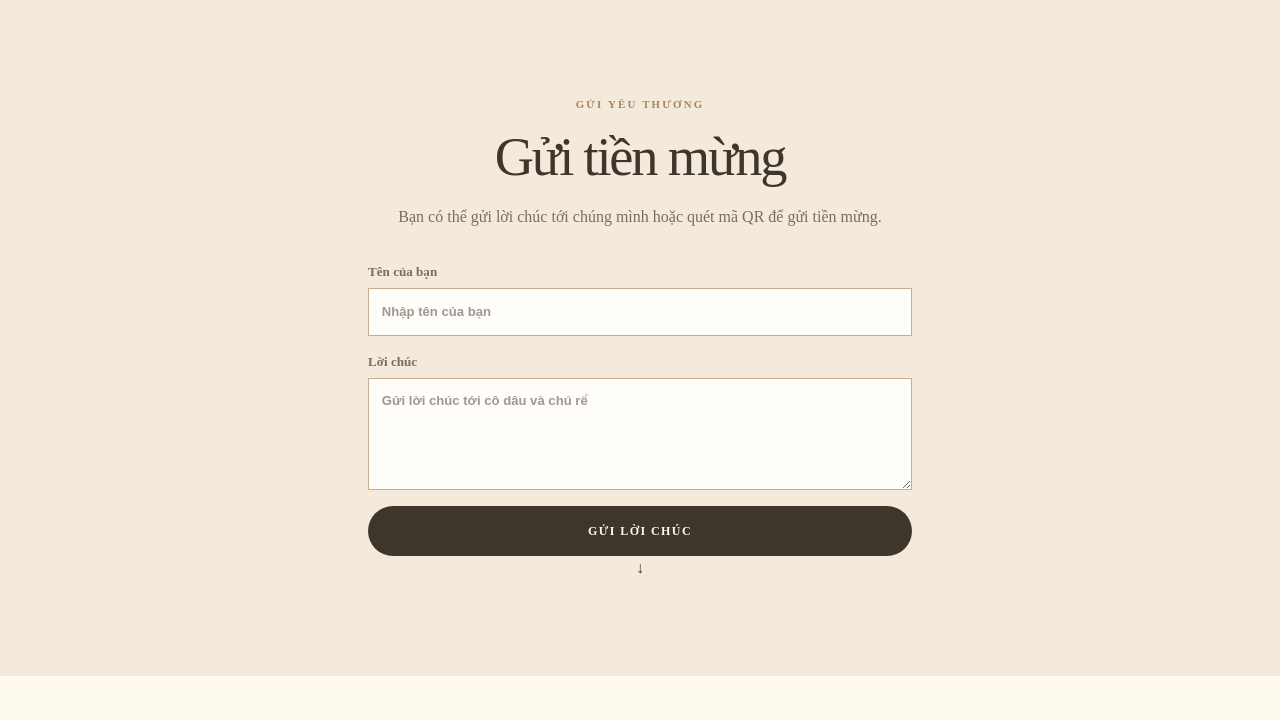
Test: GiftSection › submits the invitation guest wish and clears the form on success
In the field labelled "Tên của bạn": {"x": 640, "y": 312} [368,288,912,336], type "Minh"
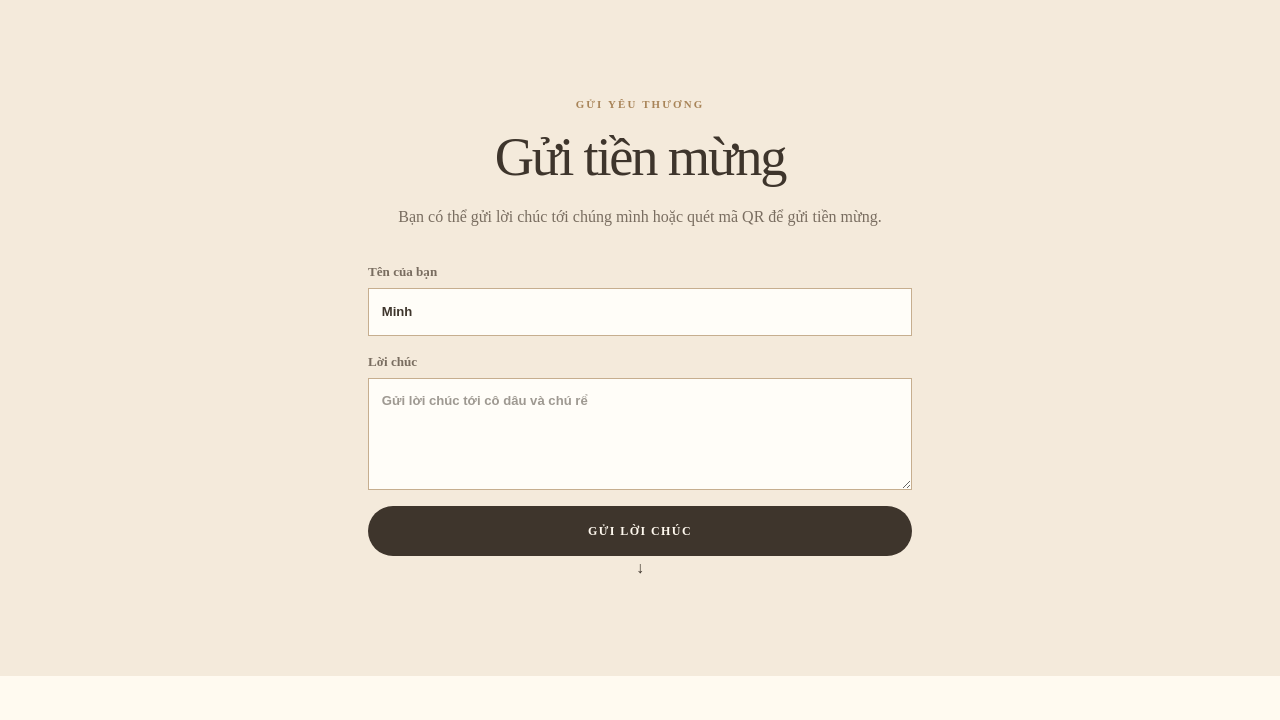
In the text box labelled "Lời chúc": {"x": 640, "y": 434} [368,378,912,490], type "Hẹn gặp nhé"
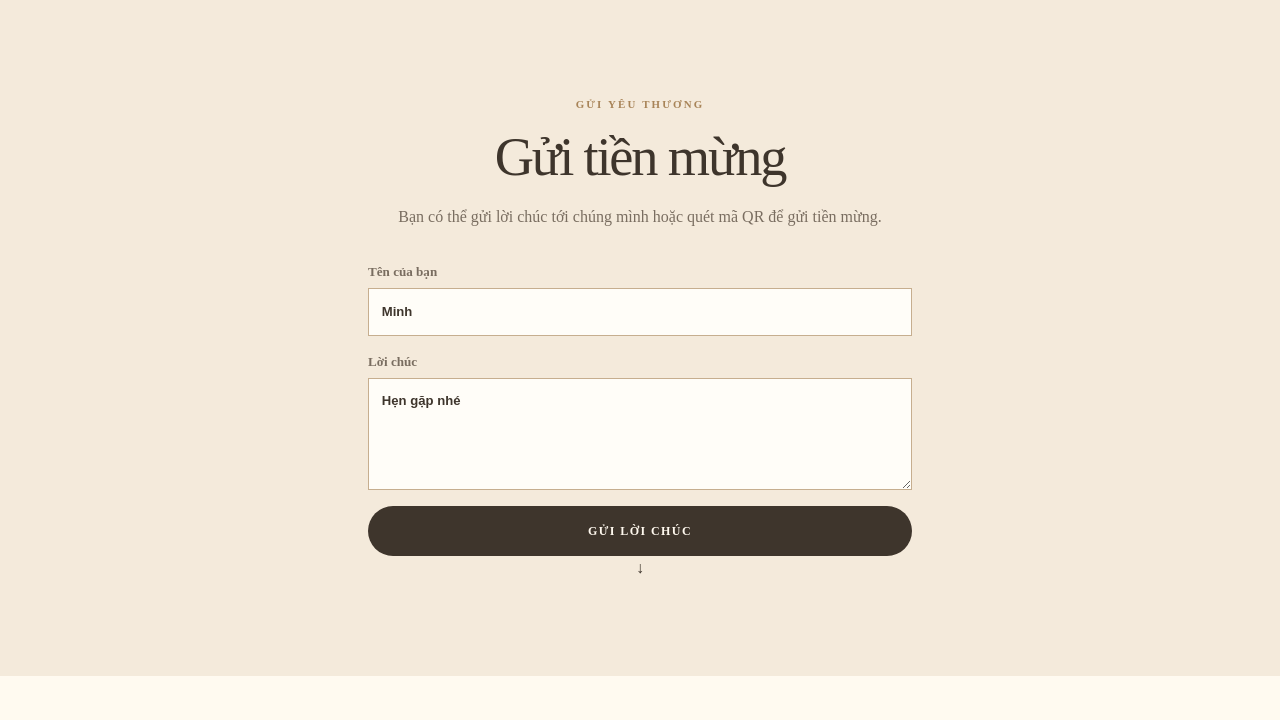
Click the button "Gửi lời chúc": {"x": 640, "y": 531} [368,506,912,556]
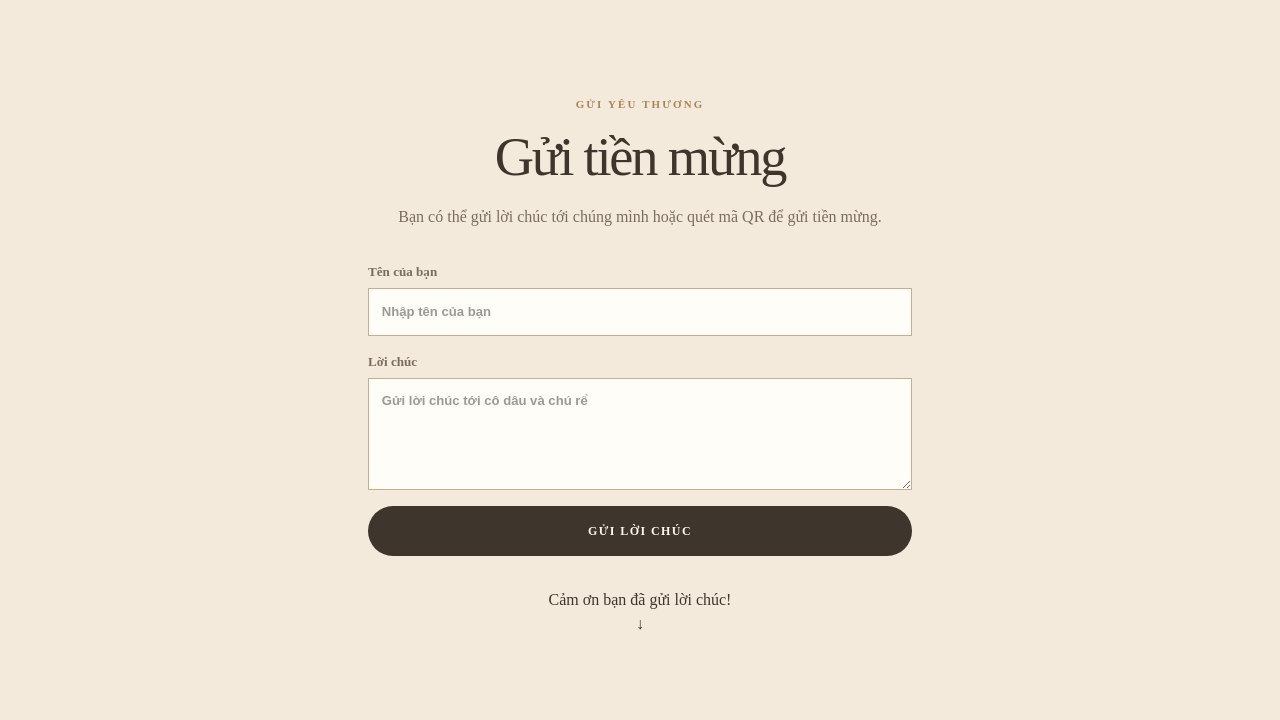
Now the field labelled "Tên của bạn" is empty, box [368,288,912,336]
Now the text "Cảm ơn bạn đã gửi lời chúc!" is shown, box [548,591,731,608]
